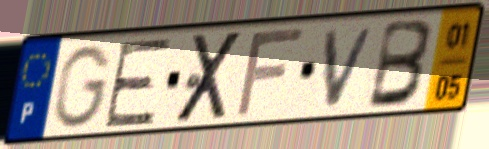B: (364, 17, 437, 113)
E: (100, 34, 175, 130)
F: (231, 24, 309, 121)
G: (51, 43, 115, 131)
V: (322, 23, 380, 111)
X: (171, 27, 248, 127)
